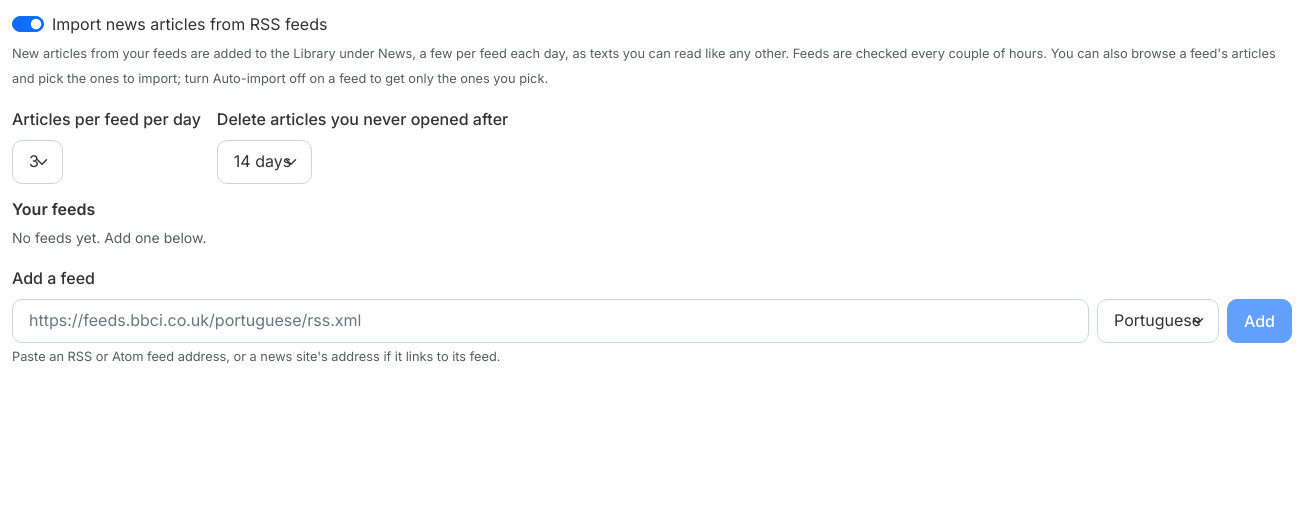
Test: NewsFeedSettings › adding a feed checks it right away and reports the result
Expected: the text "No feeds yet. Add one below." is shown, [12, 229, 206, 246]
Type " bbc.com/portuguese " into the field labelled "Add a feed" at (550, 321), box [12, 299, 1089, 343]
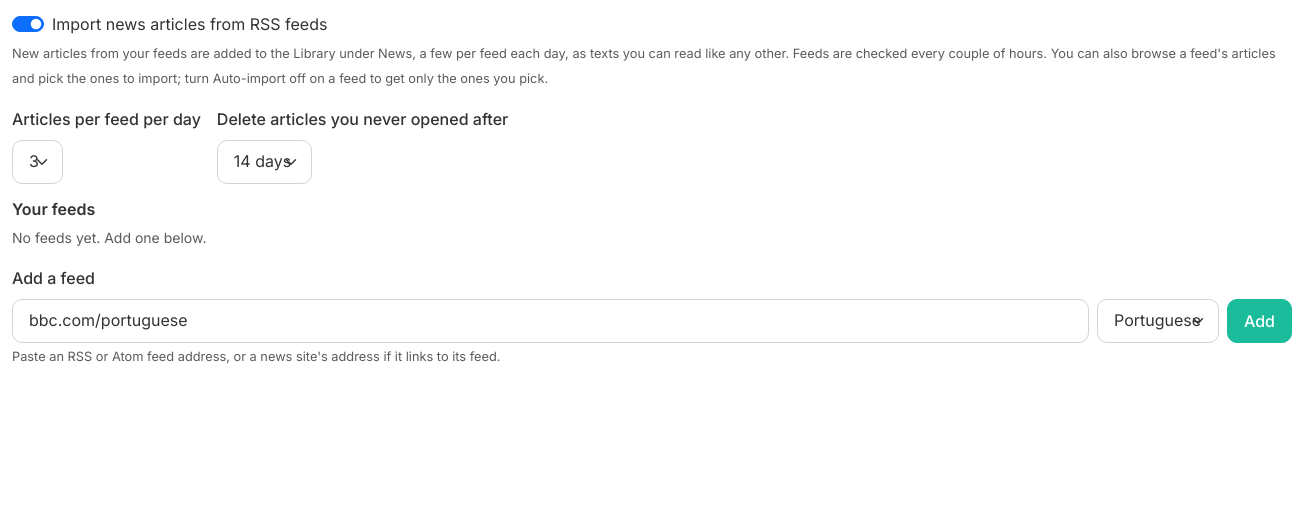
Click the button "Add" at (1260, 321), box [1227, 299, 1292, 343]
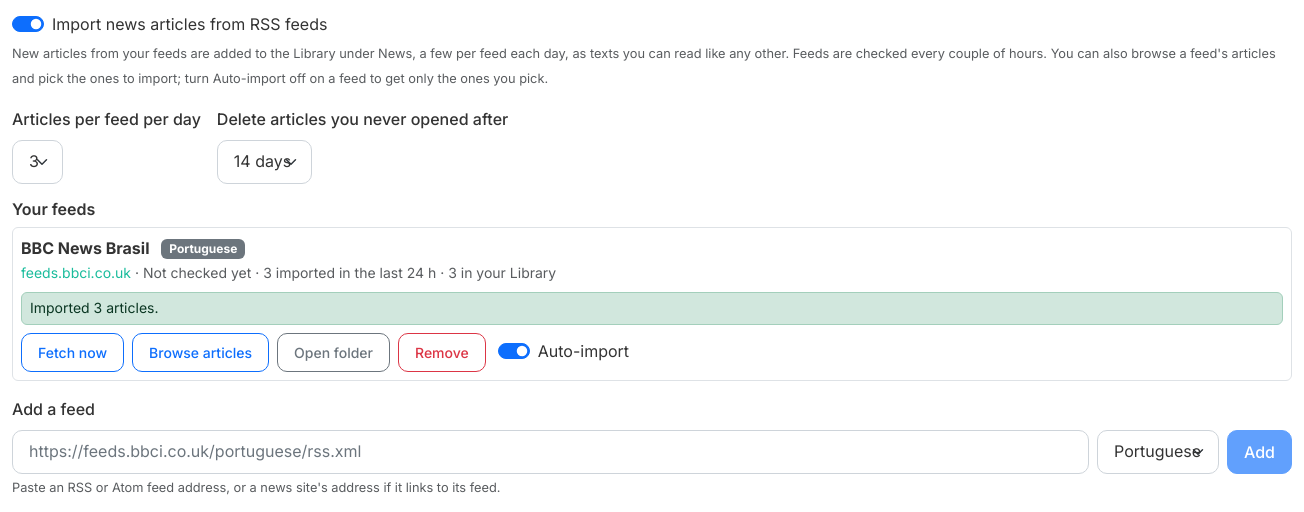
Now the text "Imported 3 articles." is shown, box [21, 292, 1283, 324]
Now the text "3 imported in the last 24 h · 3 in your Library" is shown, box [143, 264, 556, 281]
Now the field labelled "Add a feed" is empty, box [12, 430, 1089, 474]
